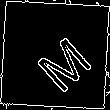M_NW: (21, 21, 89, 89)
